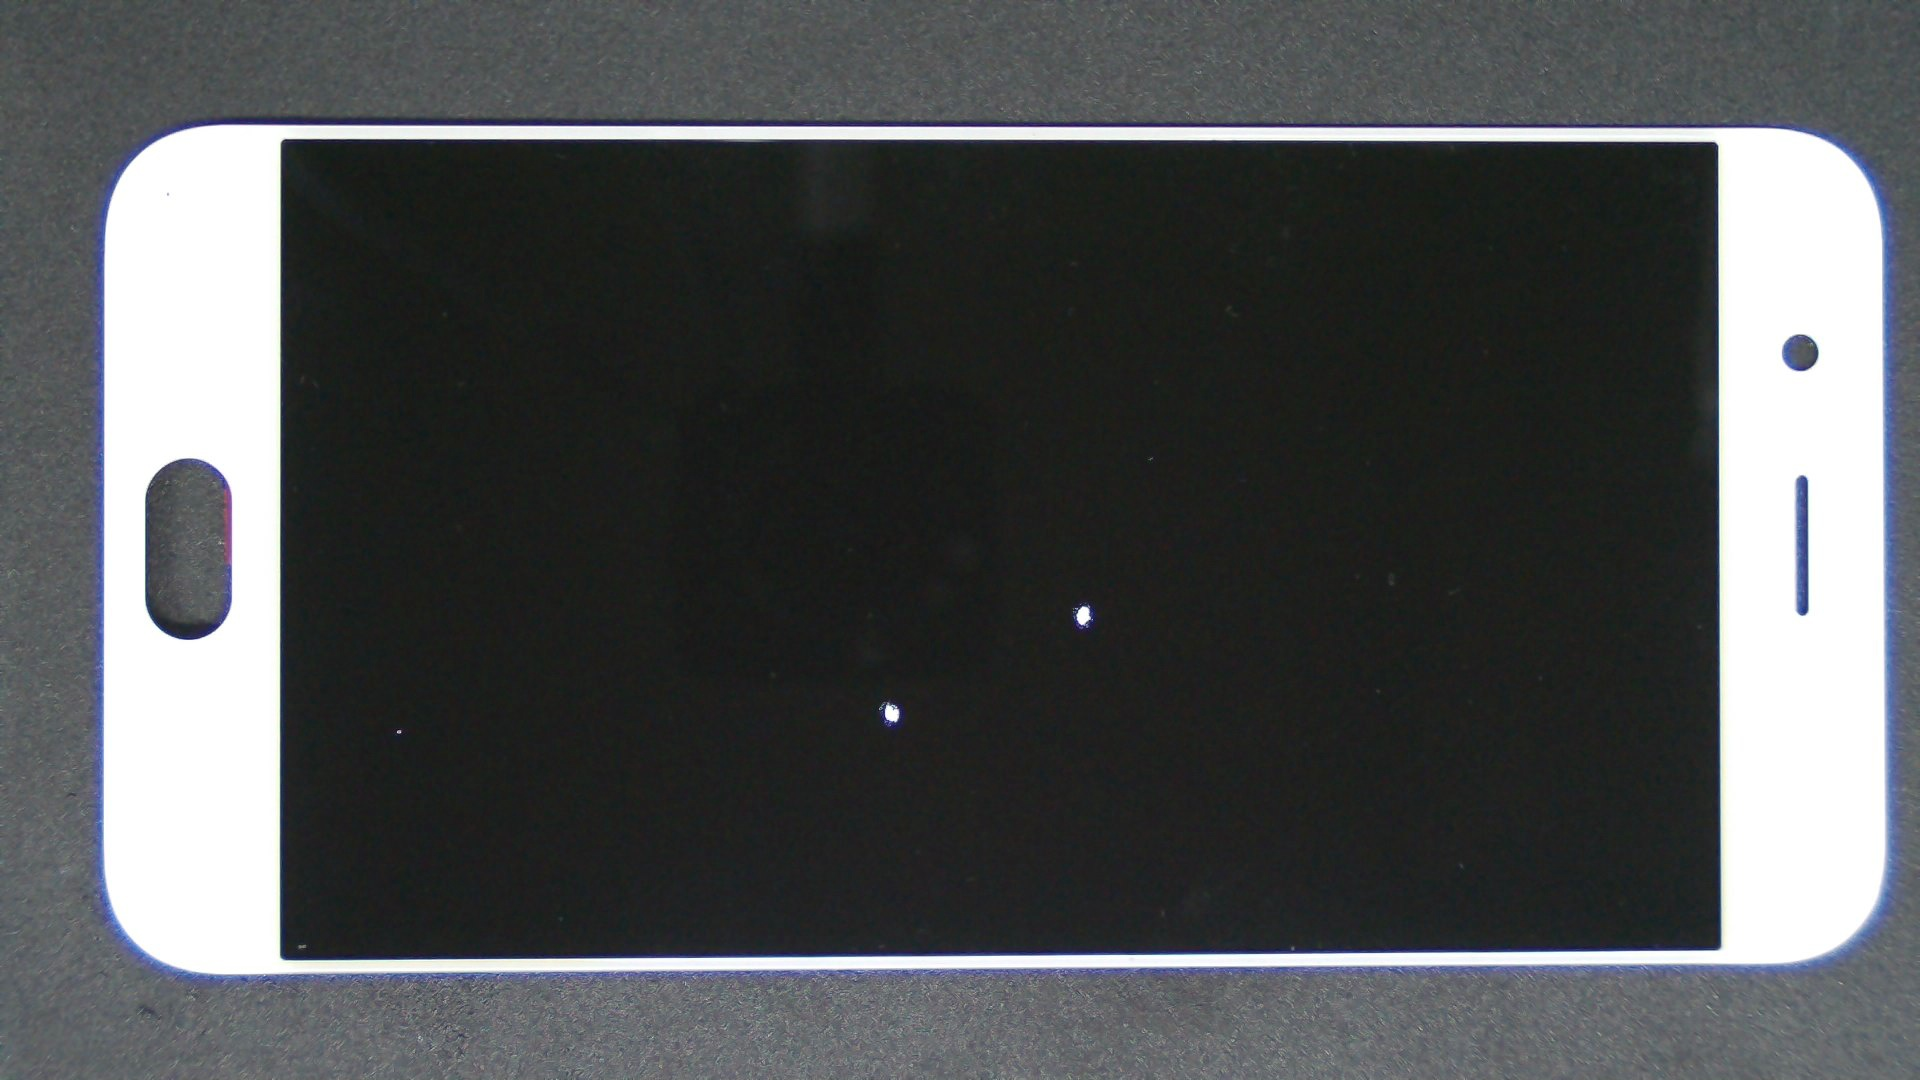oil: (545, 299, 1630, 901), (446, 349, 1335, 1048)
